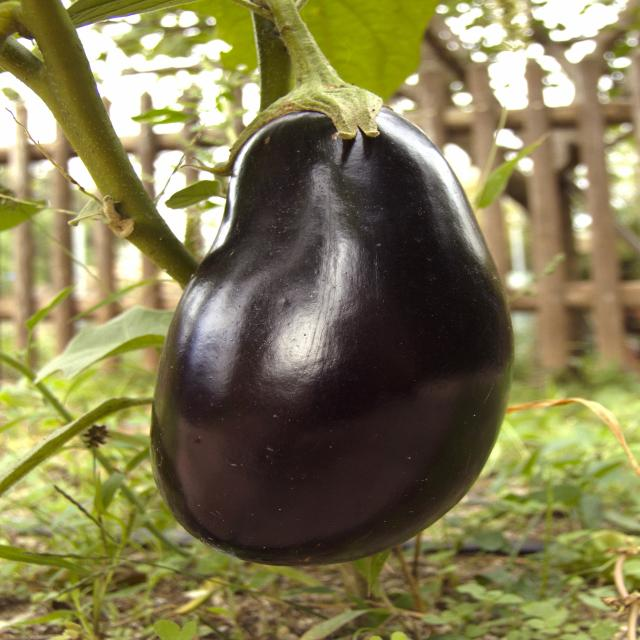eggplant: (151, 87, 520, 568)
